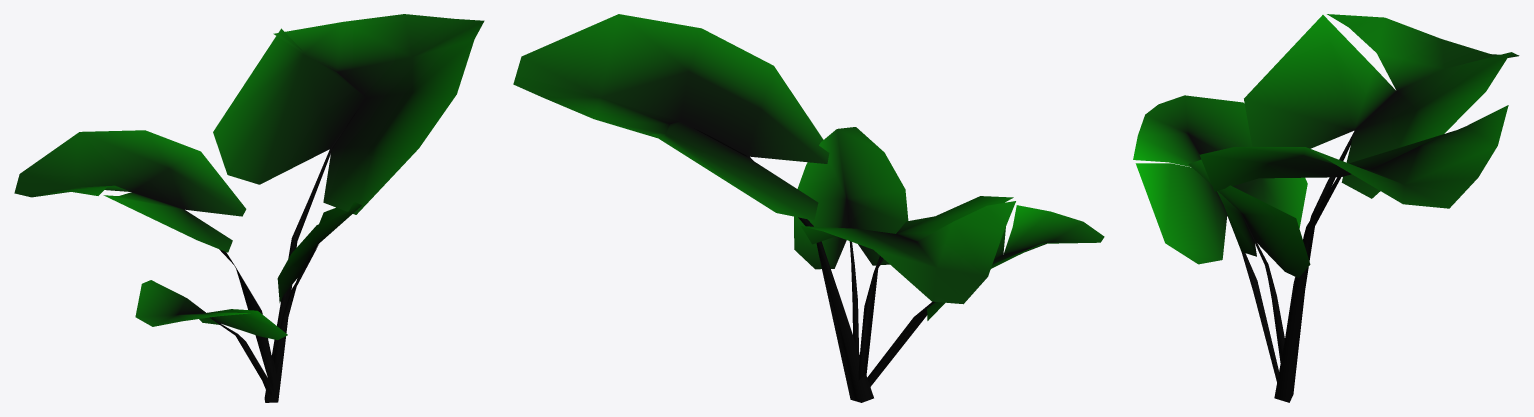
Rendered from Alocasia01_afsTREE_xlprl15_xlod02.fbx.
3 views of the same model, side by side, from view 1: azimuth 30°, elevation 25°; view 2: azimuth 150°, elevation 25°; view 3: azimuth 270°, elevation 25° (orthographic). The views are drawn at different scales.
Parts seen in each view (by area): view 1: trunk_xw06_xt05_xlp05_xp07, alocasia_xw04_xt05_xlp04, alocasia_xw03_xt04_xlp02_xp10, alocasia_xw02_xt03_xlp02_xp06; view 2: trunk_xw06_xt05_xlp05_xp07, alocasia_xw04_xt05_xlp04, alocasia_xw02_xt03_xlp02_xp06, alocasia_xw03_xt04_xlp02_xp10; view 3: alocasia_xw04_xt05_xlp04, alocasia_xw03_xt04_xlp02_xp10, trunk_xw06_xt05_xlp05_xp07, alocasia_xw02_xt03_xlp02_xp06.
Part boxes in pixels (x1,y1,x2,y2): trunk_xw06_xt05_xlp05_xp07: [213, 14, 484, 402]; alocasia_xw04_xt05_xlp04: [14, 130, 273, 391]; alocasia_xw03_xt04_xlp02_xp10: [135, 280, 287, 395]; alocasia_xw02_xt03_xlp02_xp06: [273, 202, 361, 374]; trunk_xw06_xt05_xlp05_xp07: [513, 14, 873, 402]; alocasia_xw04_xt05_xlp04: [801, 196, 1015, 380]; alocasia_xw02_xt03_xlp02_xp06: [794, 127, 908, 352]; alocasia_xw03_xt04_xlp02_xp10: [867, 205, 1104, 387]; alocasia_xw04_xt05_xlp04: [1244, 14, 1519, 336]; alocasia_xw03_xt04_xlp02_xp10: [1133, 95, 1307, 382]; trunk_xw06_xt05_xlp05_xp07: [1199, 105, 1508, 402]; alocasia_xw02_xt03_xlp02_xp06: [1188, 159, 1310, 362].
Size of the model in its own units: 2.56 by 1.57 by 1.7.
